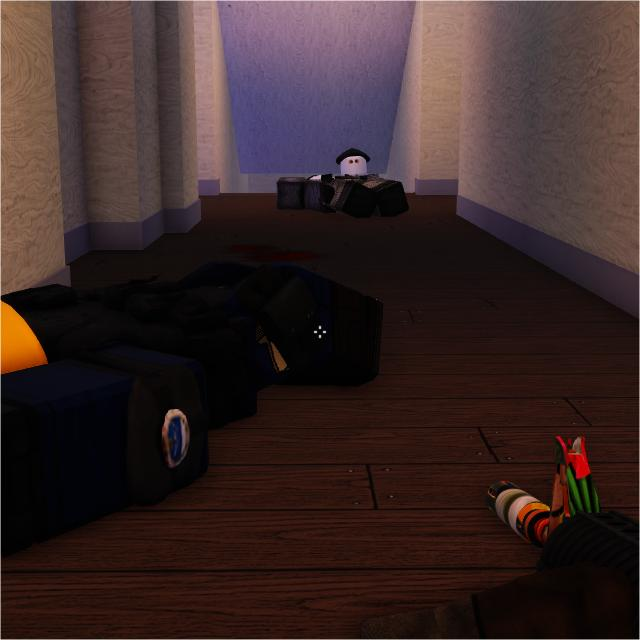Head: (338, 149, 367, 177)
